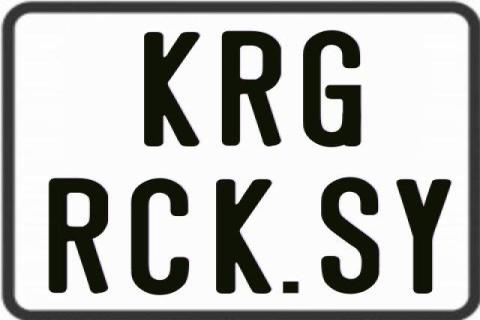C: (128, 177, 187, 293)
G: (303, 28, 366, 146)
K: (142, 30, 201, 150), (213, 178, 272, 298)
R: (49, 176, 113, 294), (221, 29, 280, 145)
S: (321, 176, 382, 296)
Y: (395, 177, 453, 297)
